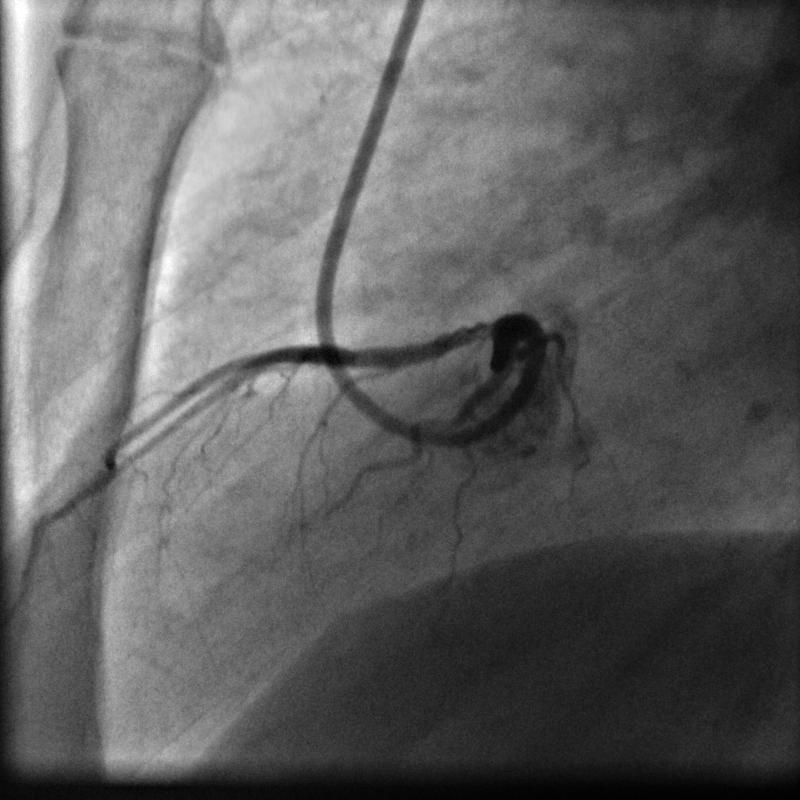Stenosis: (339, 341, 363, 371)
